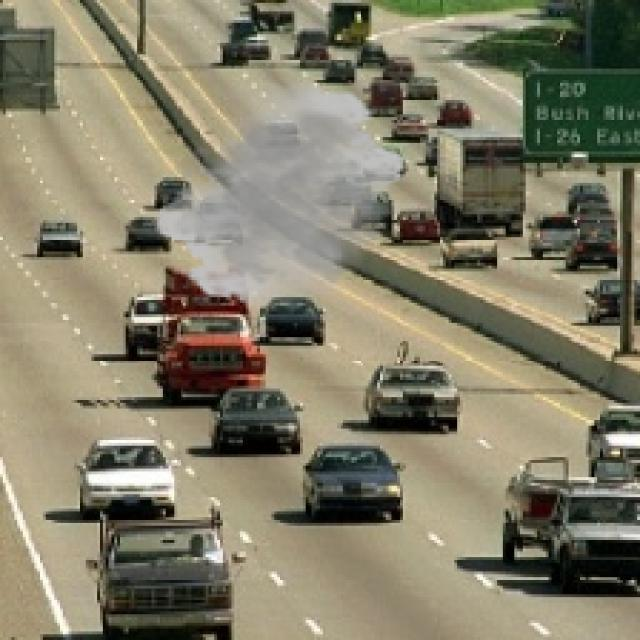Smoke: (152, 77, 408, 312)
